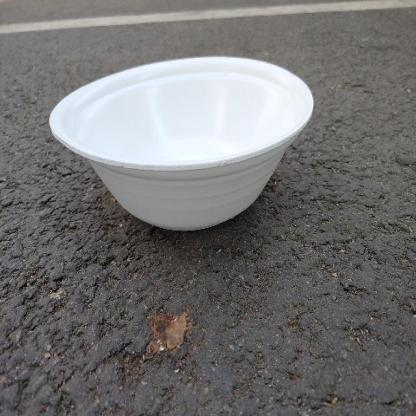Glass Cup: (48, 54, 315, 232), (49, 56, 314, 230)
